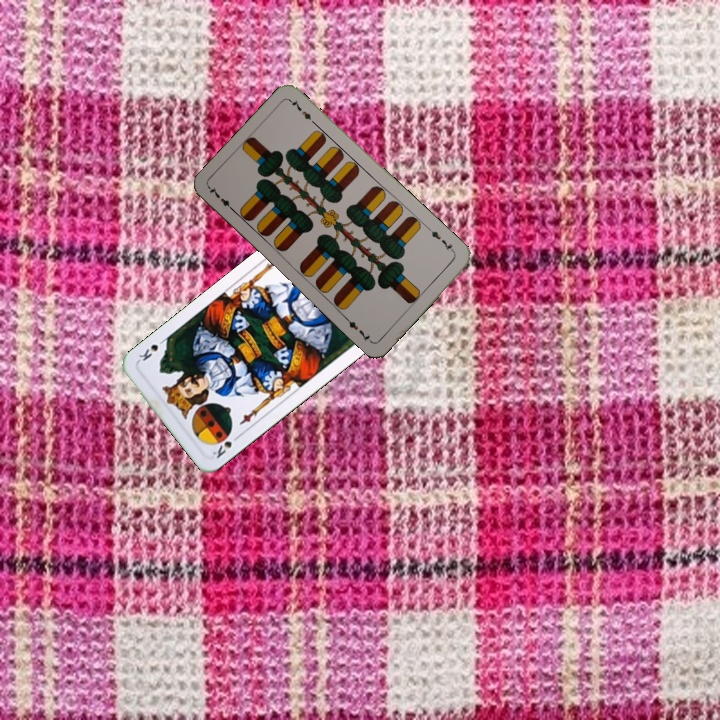E7: (205, 182, 238, 215), (425, 224, 458, 256)
SK: (208, 430, 243, 461)
